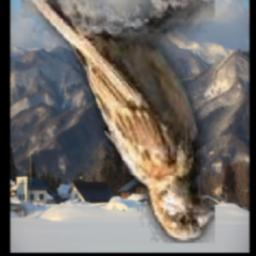Sparrow: (21, 0, 215, 244)
